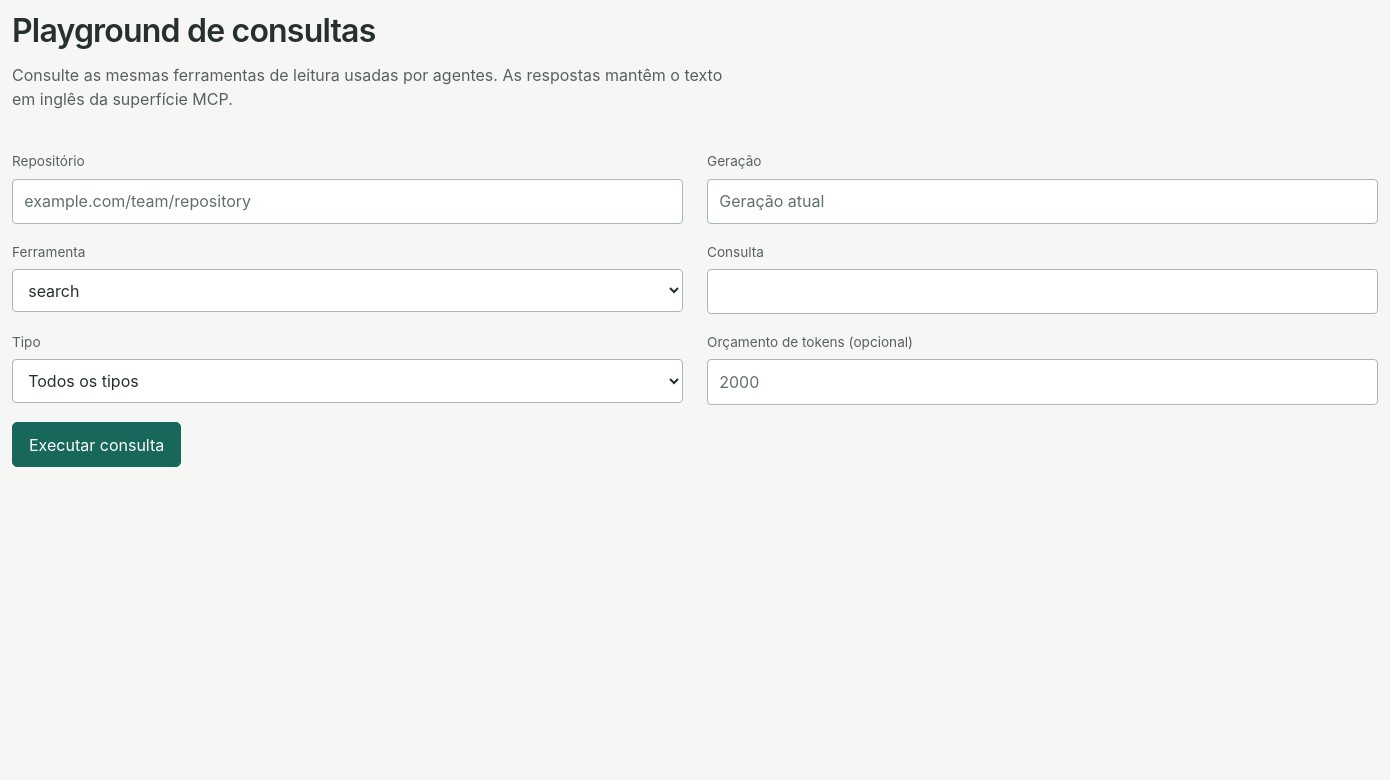
Test: playground sends the served shape and displays the exact answer in pt-BR
In the field labelled "Repositório": (348, 201) [12, 179, 683, 224], type "example.com/chain/web"
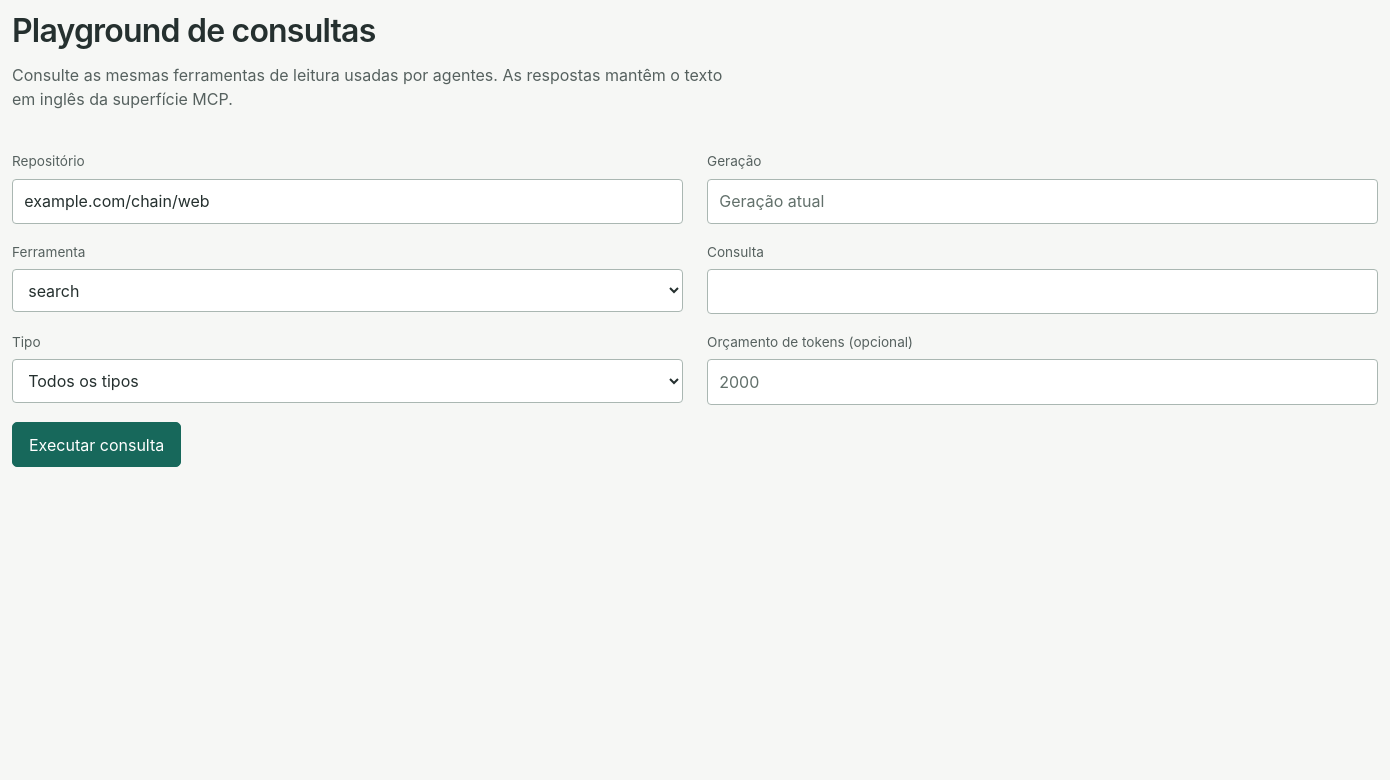
In the field labelled "Geração": (1042, 201) [707, 179, 1378, 224], type "0123456789abcdef"
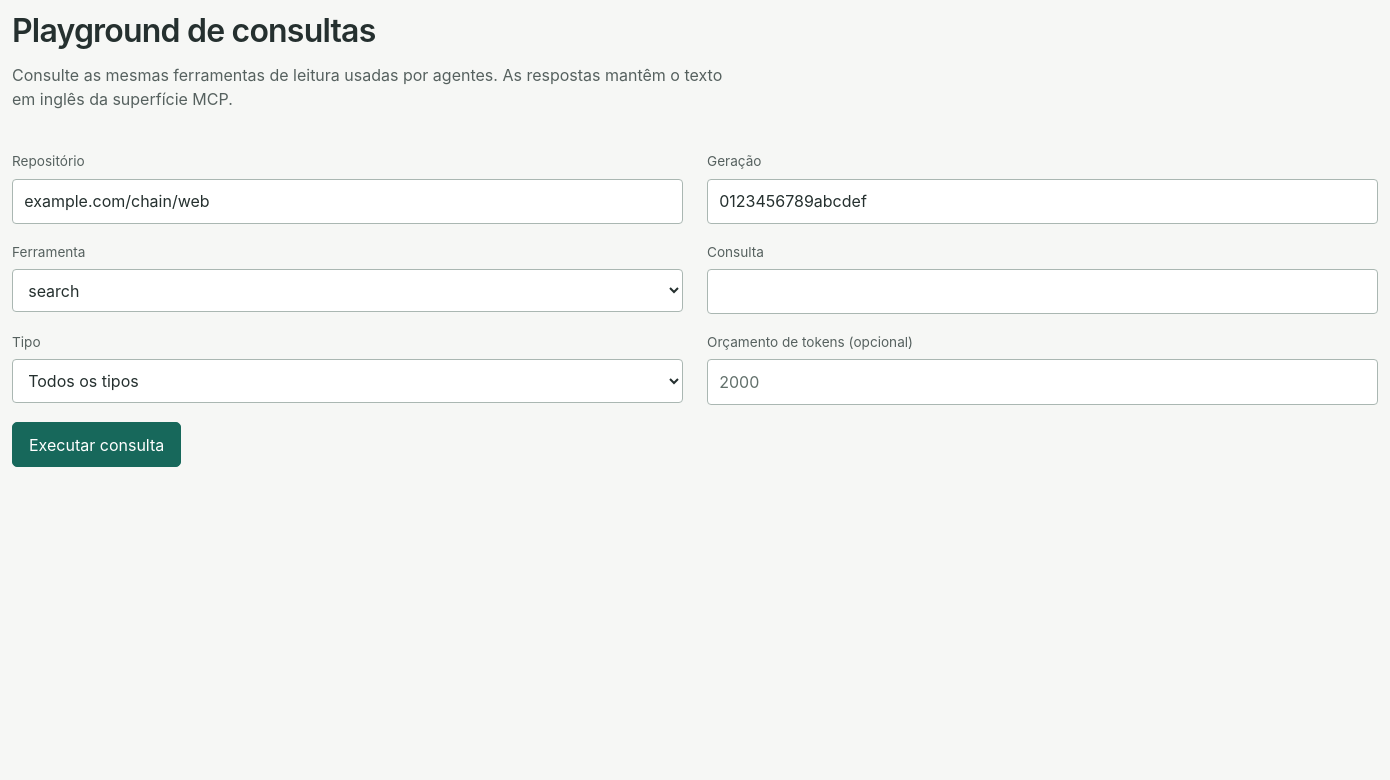
Select "trace" in the dropdown labelled "Ferramenta": (348, 291) [12, 269, 683, 312]
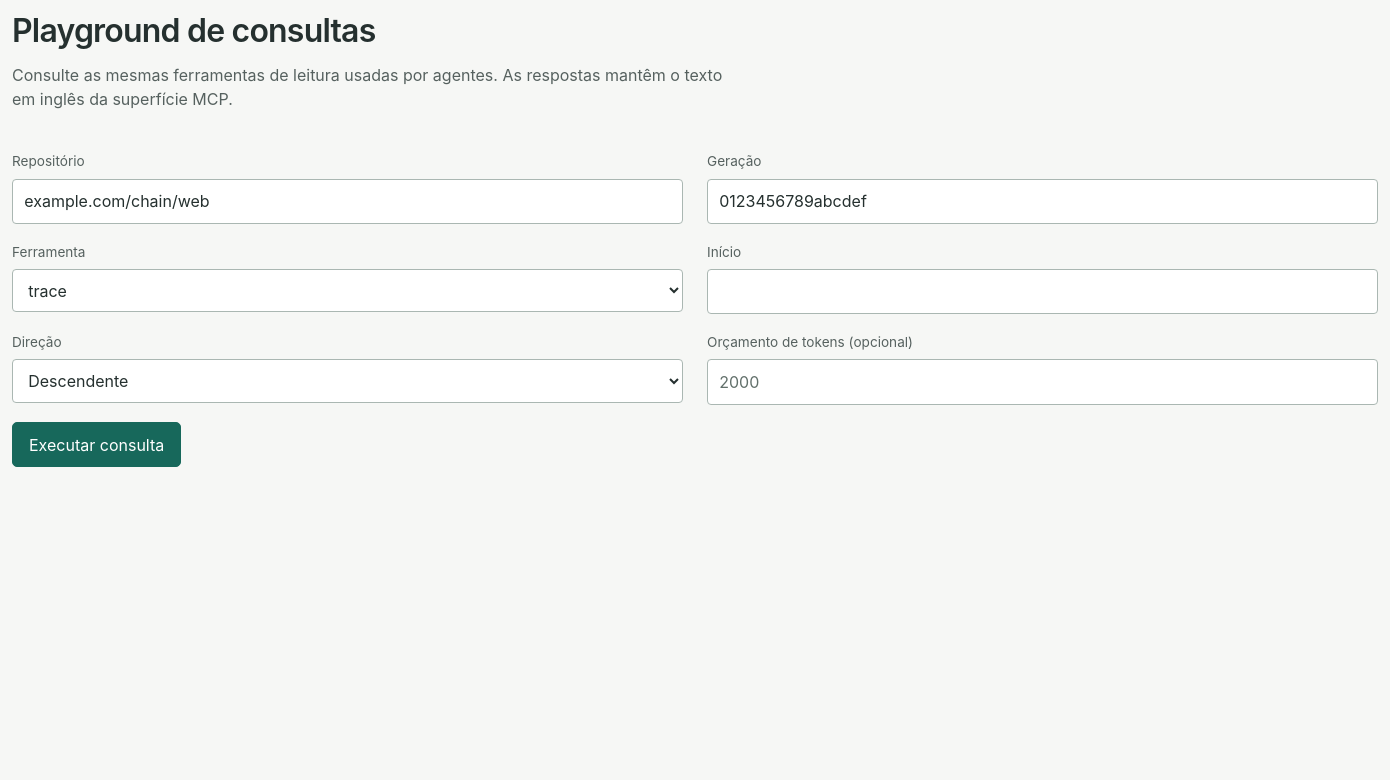
In the field labelled "Início": (1042, 292) [707, 269, 1378, 314], type "dashboard"
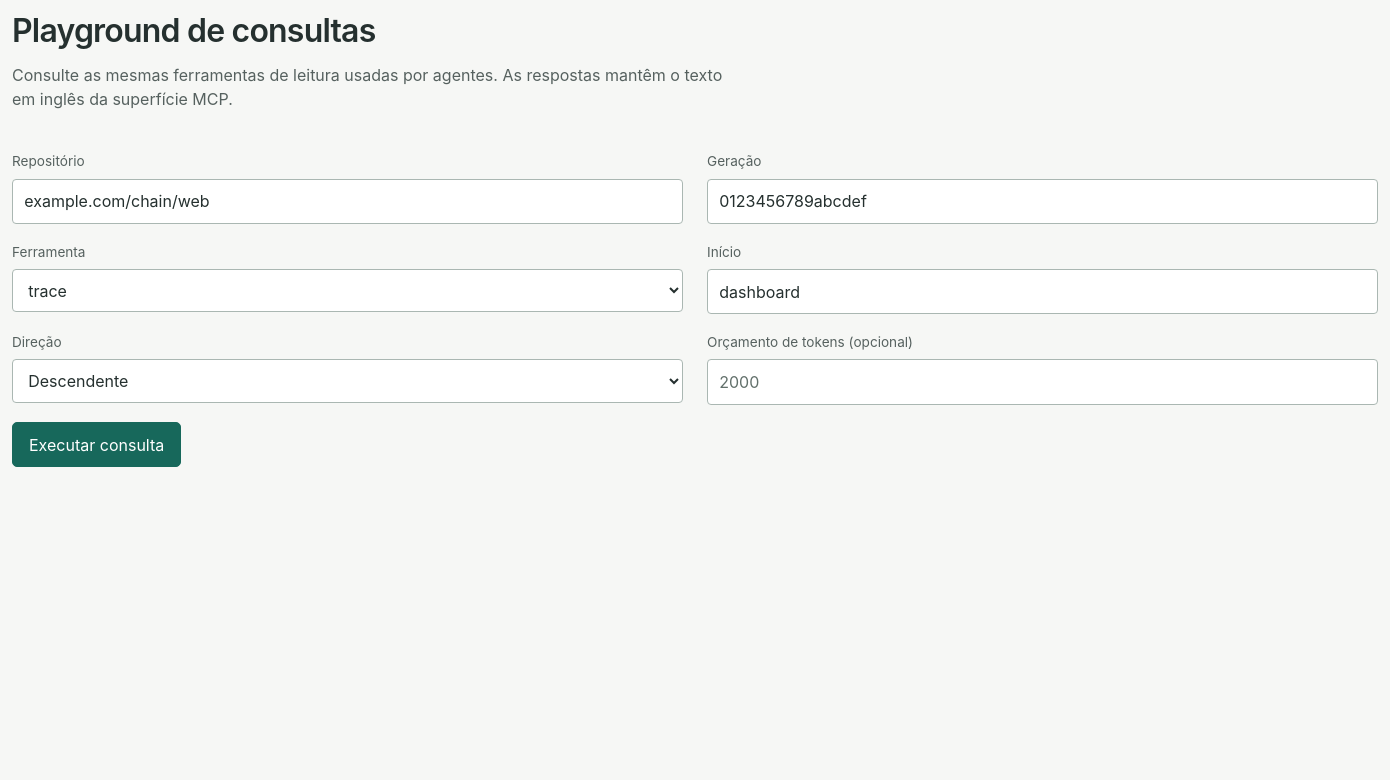
Submit the form named "Playground de consultas", box [12, 151, 1378, 468]
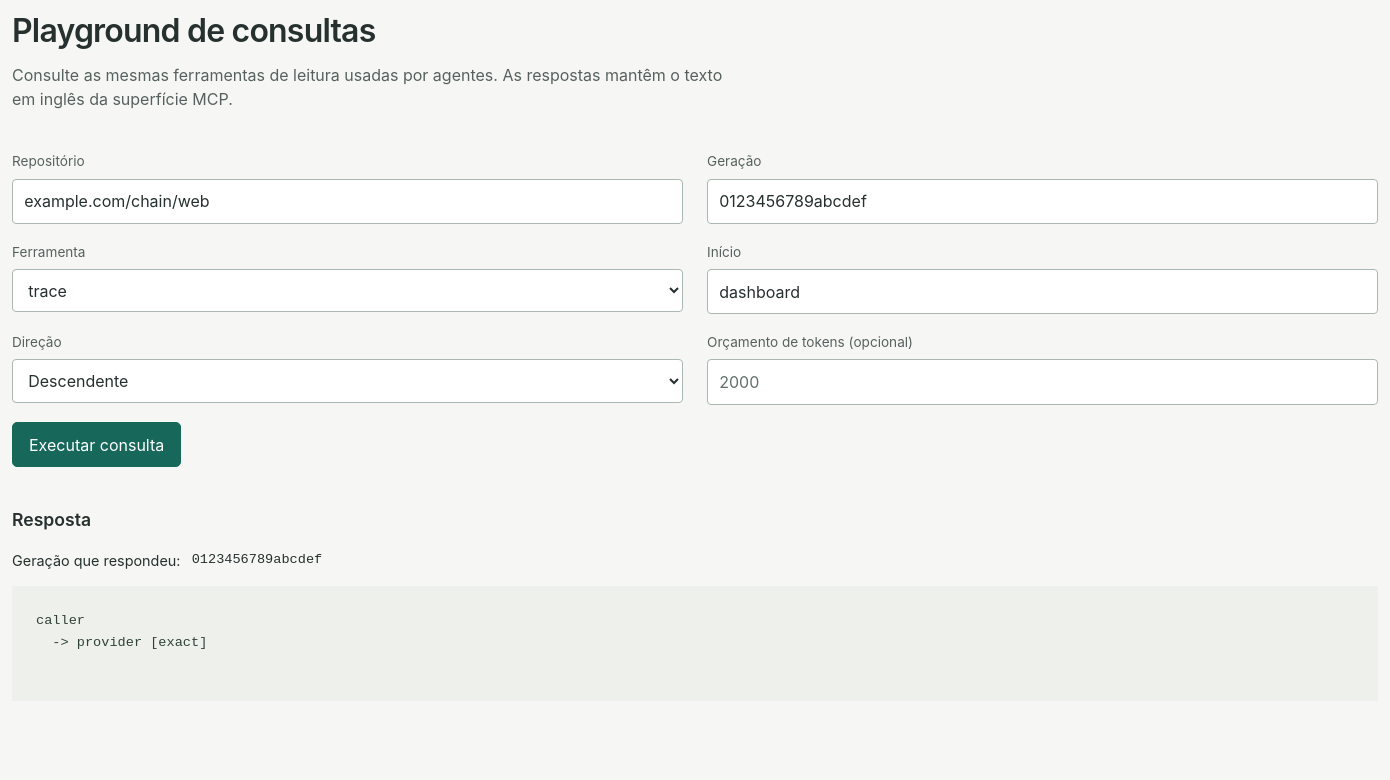
Expected: the text "0123456789abcdef" is shown, [192, 550, 322, 571]
